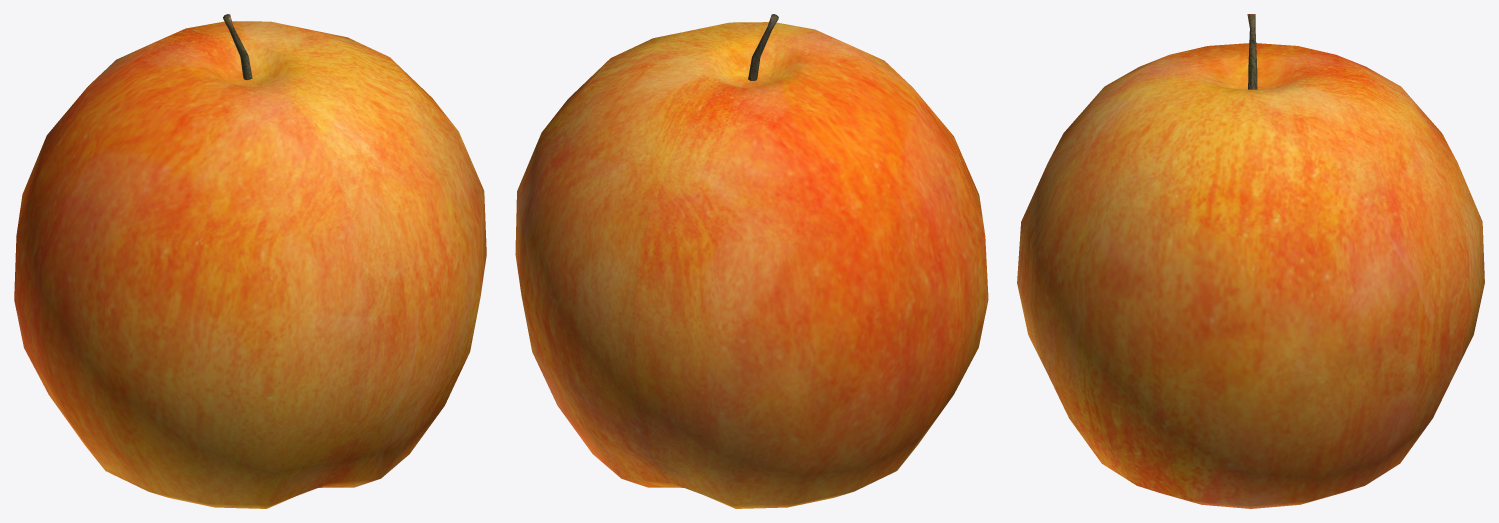
The model's file is apple_final.obj.
3 renders of one model, left to right at view 1: azimuth 30°, elevation 25°; view 2: azimuth 150°, elevation 25°; view 3: azimuth 270°, elevation 25°, orthographic. The views are drawn at different scales.
Parts seen in each view (by area): view 1: Circle; view 2: Circle; view 3: Circle.
Boxes of the visible parts, x1,y1,x2,y2 form: Circle: [14, 14, 486, 508]; Circle: [515, 14, 988, 508]; Circle: [1017, 14, 1484, 508].
Size of the model in its own units: 0.0526 by 0.0548 by 0.0531.
1 material, 1 textured.
